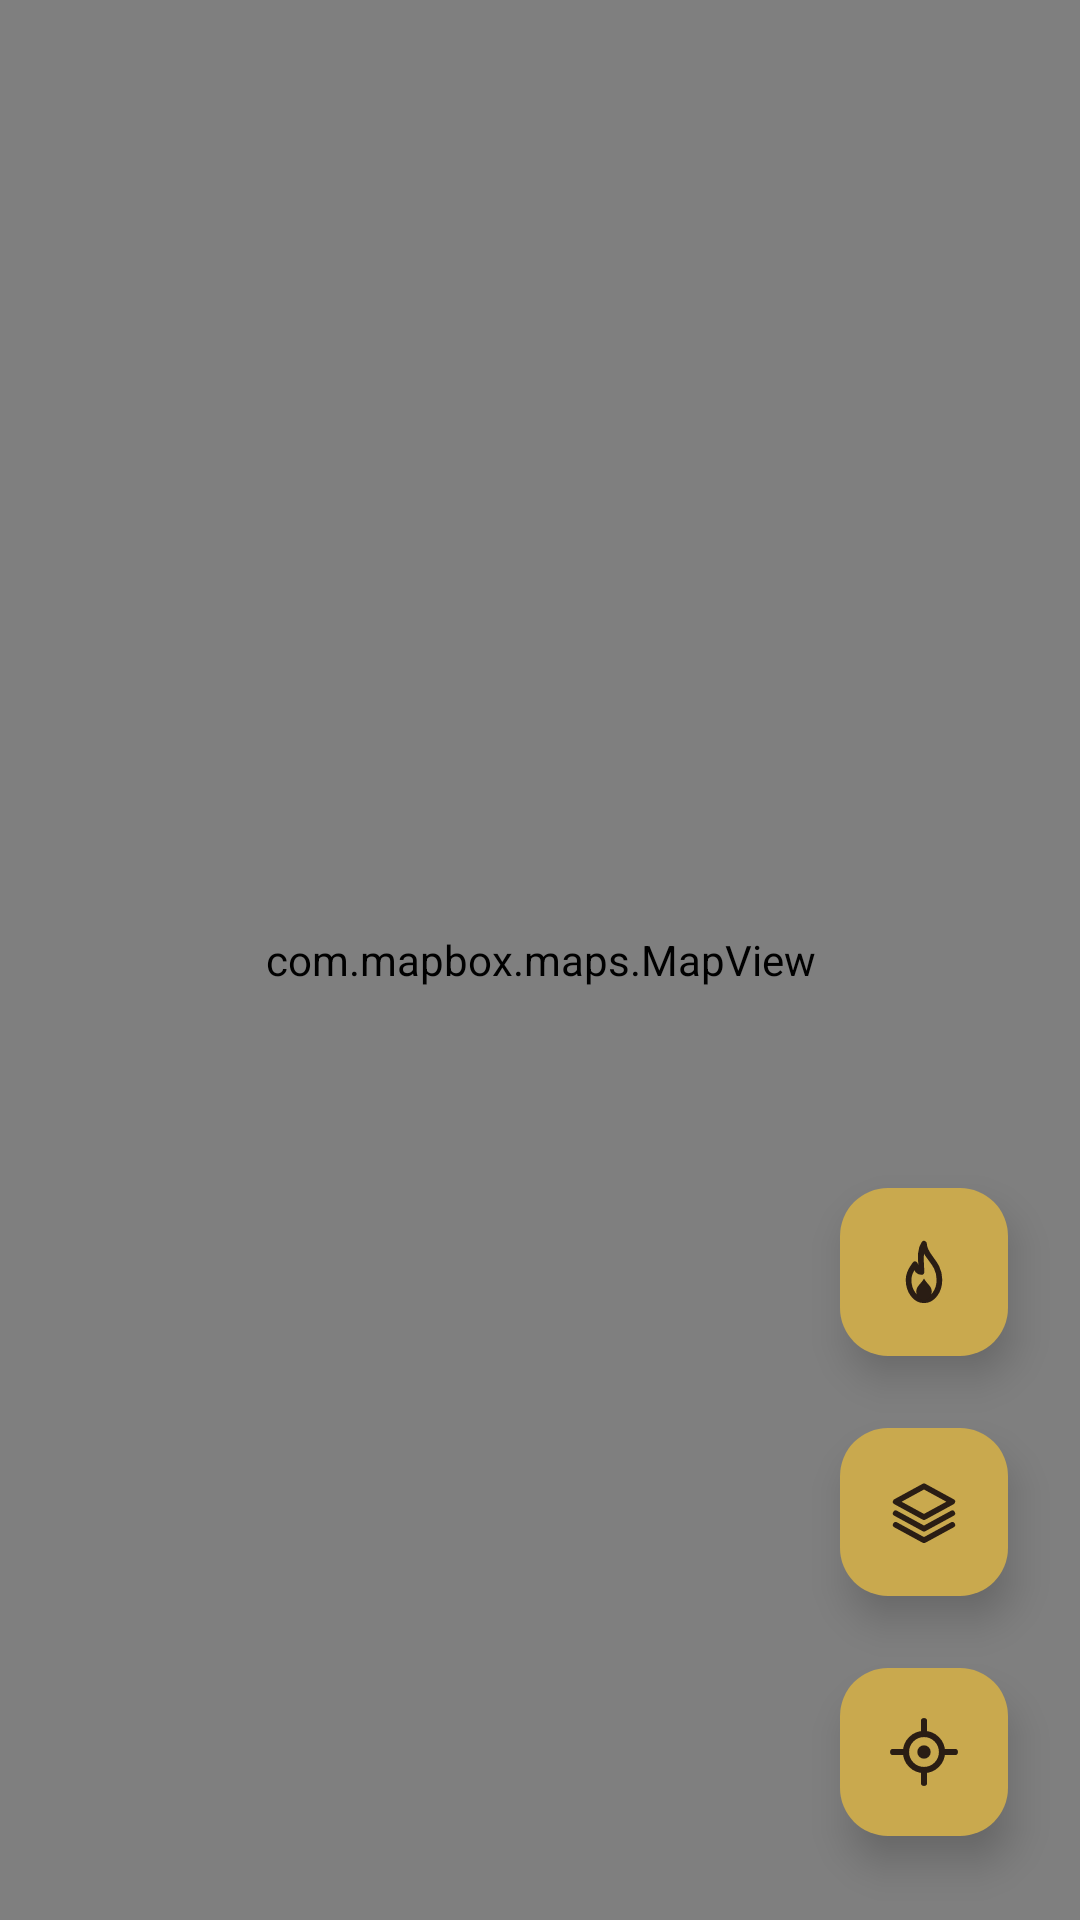

Icon click points for this 1080 x 1920 phone screenshot, format [x,y]:
Heat map: [924,1272]
My location: [924,1752]
Switch between map and satellite: [924,1512]
